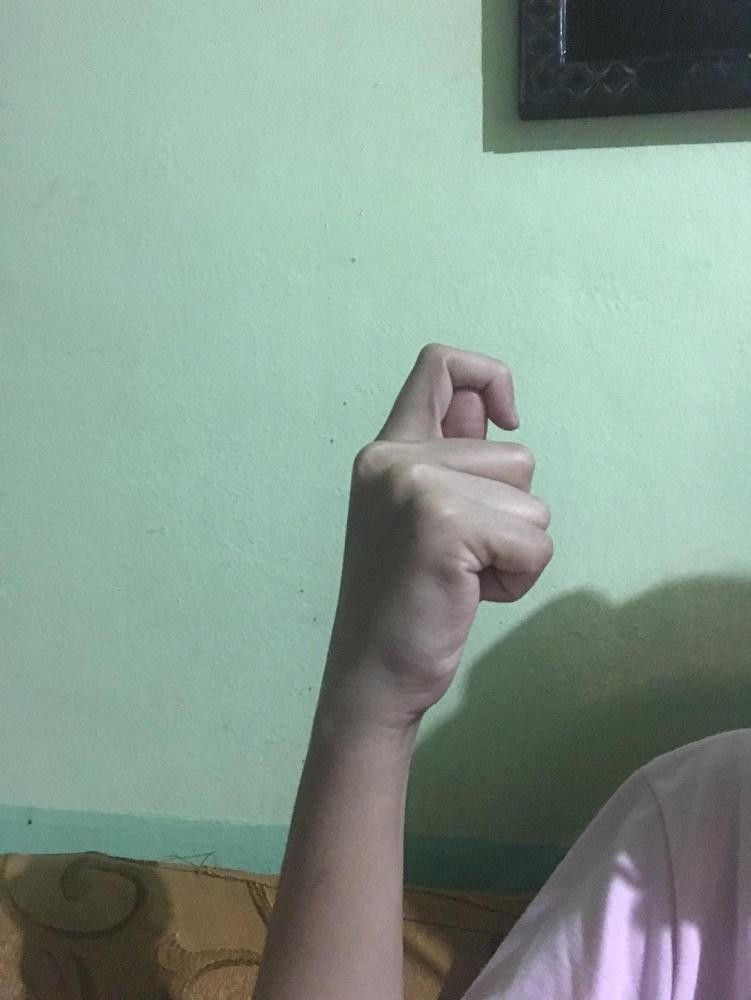t: (334, 336, 554, 734)
